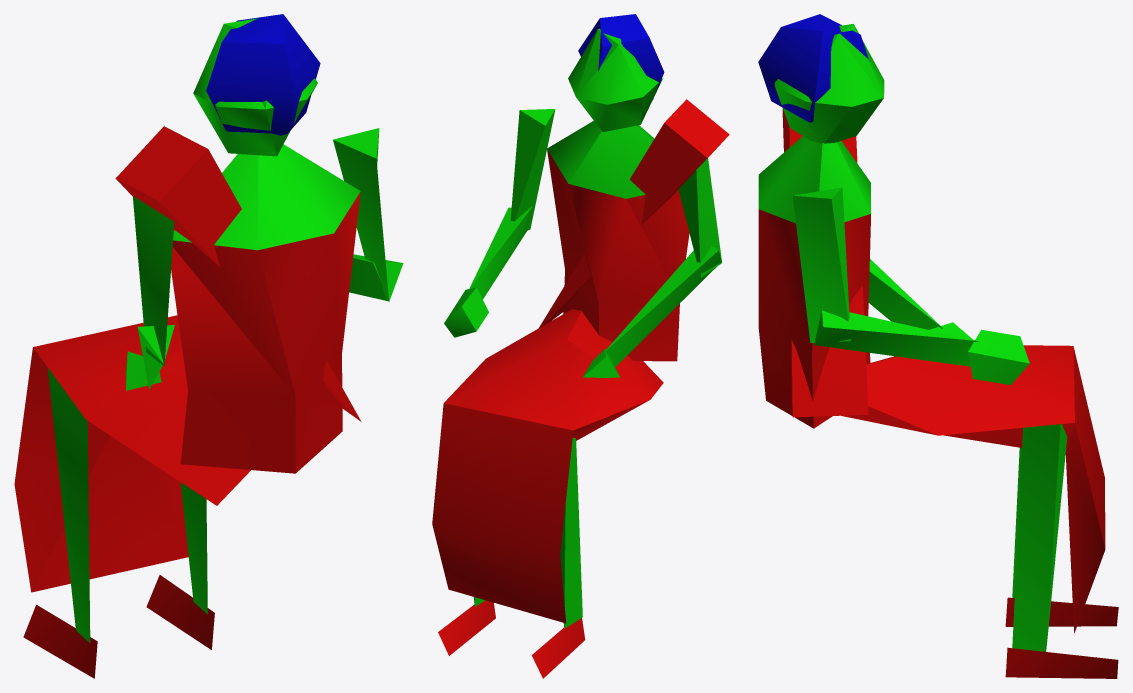
Rendered from noble_sit_lod2.glb.
The picture shows the model from 3 angles, left to right: view 1: azimuth 30°, elevation 25°; view 2: azimuth 150°, elevation 25°; view 3: azimuth 270°, elevation 25°; orthographic projection. The views are drawn at different scales.
Parts seen in each view (by area): view 1: OUT_2; view 2: OUT_2; view 3: OUT_2.
Part boxes in pixels (left/top/right/bottom): OUT_2: left=14, top=14, right=403, bottom=678; OUT_2: left=432, top=14, right=729, bottom=678; OUT_2: left=758, top=14, right=1118, bottom=678.
Size of the model in its own units: 0.5142 by 1.29 by 0.6659.
